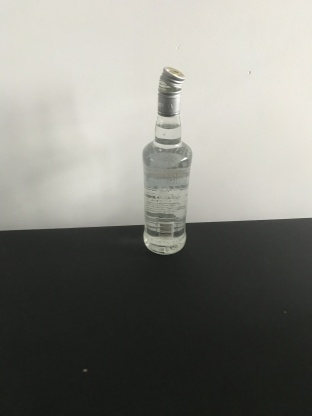nakretka: (156, 64, 185, 117)
